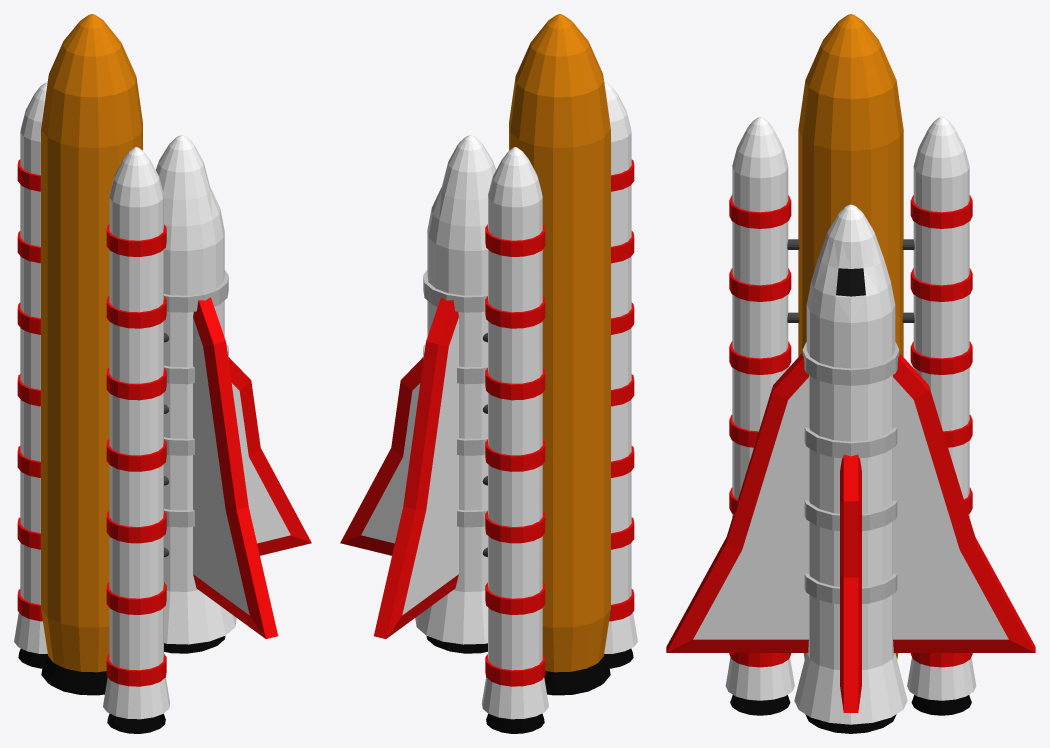
The model's file is low_poly_space_shuttle.glb.
3 renders of one model, left to right at view 1: azimuth 30°, elevation 25°; view 2: azimuth 150°, elevation 25°; view 3: azimuth 270°, elevation 25°, orthographic. The views are drawn at different scales.
Visible parts, largest first — view 1: Cylinder.004_2, Cylinder_3, Cylinder.015_0, Cylinder.005_1; view 2: Cylinder.004_2, Cylinder_3, Cylinder.005_1, Cylinder.015_0; view 3: Cylinder_3, Cylinder.004_2, Cylinder.015_0, Cylinder.005_1.
Part boxes in pixels (<box>): Cylinder.004_2: <box>41,14,169,695</box>; Cylinder_3: <box>156,135,311,653</box>; Cylinder.015_0: <box>103,147,170,733</box>; Cylinder.005_1: <box>14,82,49,668</box>; Cylinder.004_2: <box>482,14,610,695</box>; Cylinder_3: <box>340,135,495,653</box>; Cylinder.005_1: <box>481,147,548,733</box>; Cylinder.015_0: <box>602,82,637,668</box>; Cylinder_3: <box>666,204,1035,733</box>; Cylinder.004_2: <box>787,14,914,659</box>; Cylinder.015_0: <box>725,116,794,715</box>; Cylinder.005_1: <box>907,116,976,715</box>.
Bounding box in the file's own units: 3.81 × 9.43 × 4.58.
